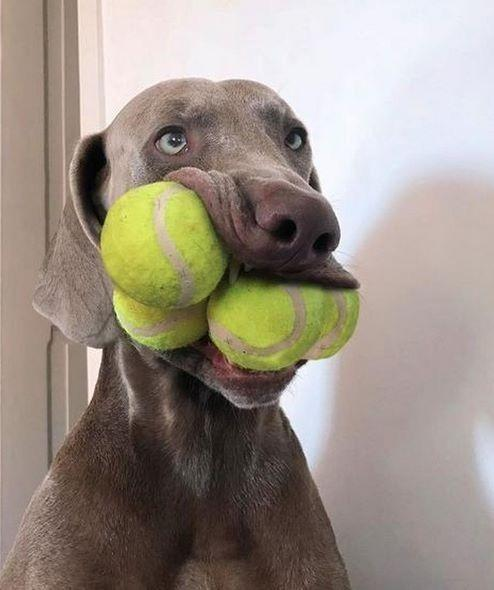adult_dog: (0, 77, 358, 590)
